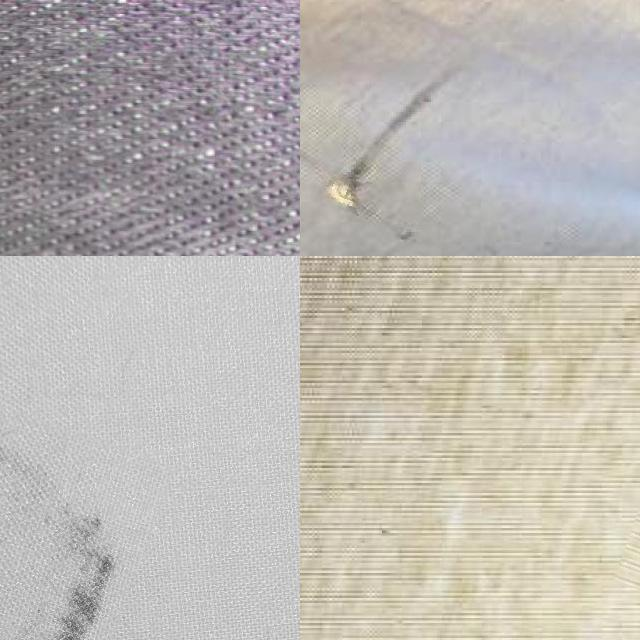Thread_other: (0, 389, 155, 640)
other: (316, 172, 368, 212)
